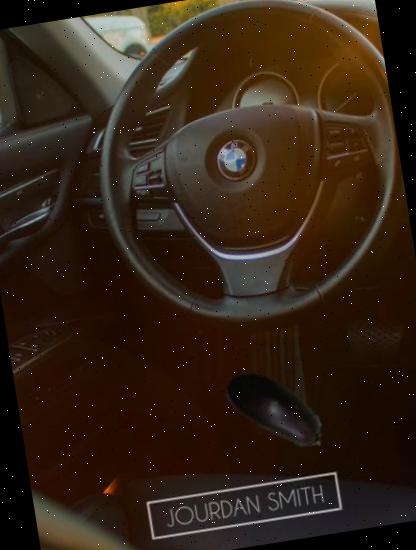Eggplant: (213, 345, 341, 473)
